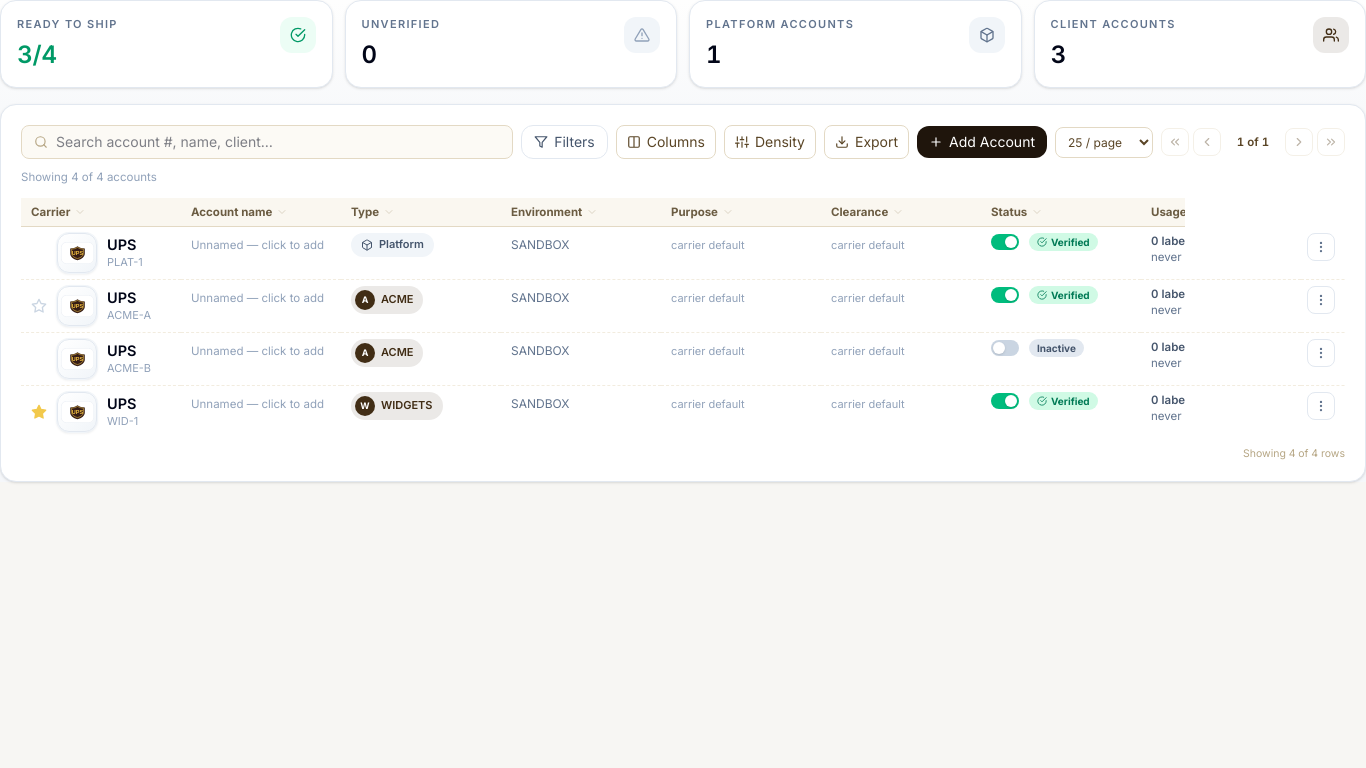
Test case: CarrierConnections · client-attach · positive › selecting a client in the filter narrows visible accounts to that client
Check: the text "Showing 4 of 4 accounts" is shown, box [21,170,157,184]
Click the button "Filters" at (564, 142), box [521,125,608,159]
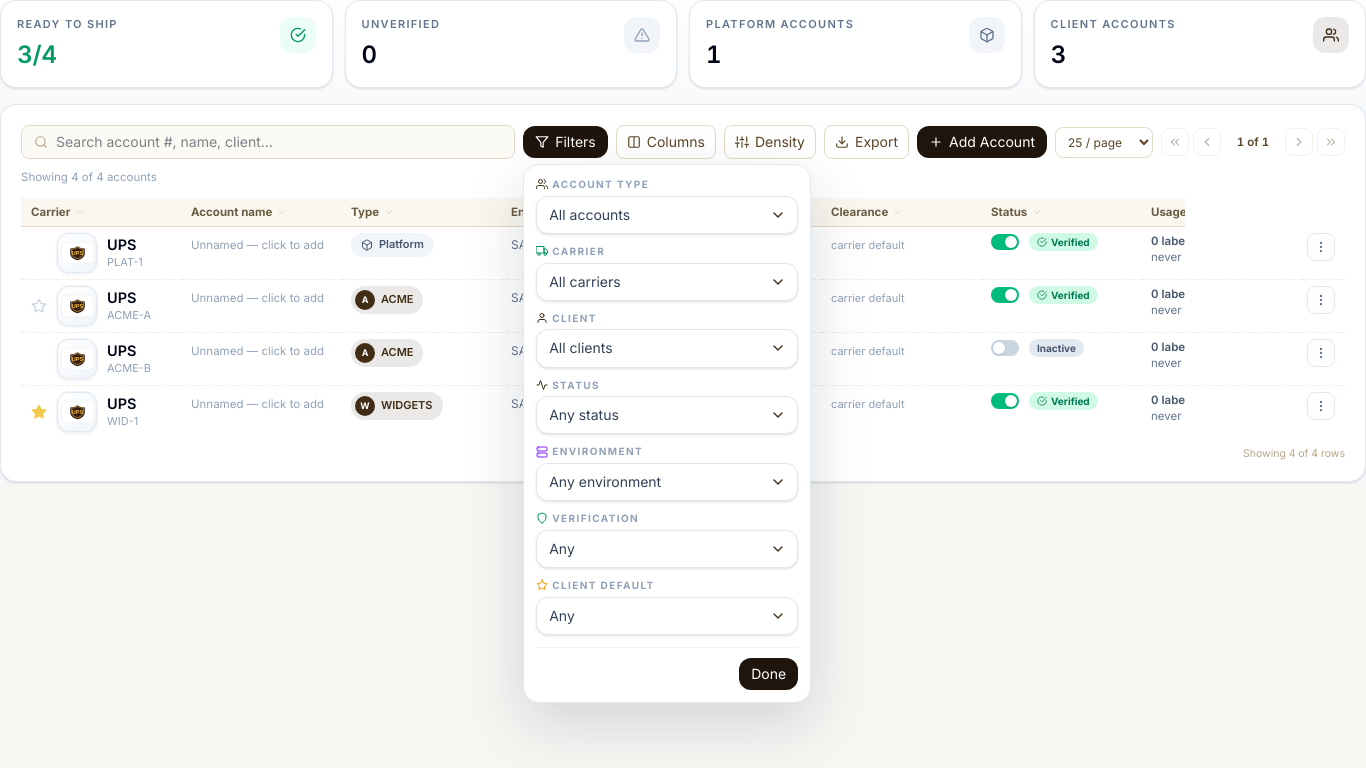
Select "ACME — Acme Corp" in the dropdown named "Filter by client" at (667, 348), box [536,329,798,368]
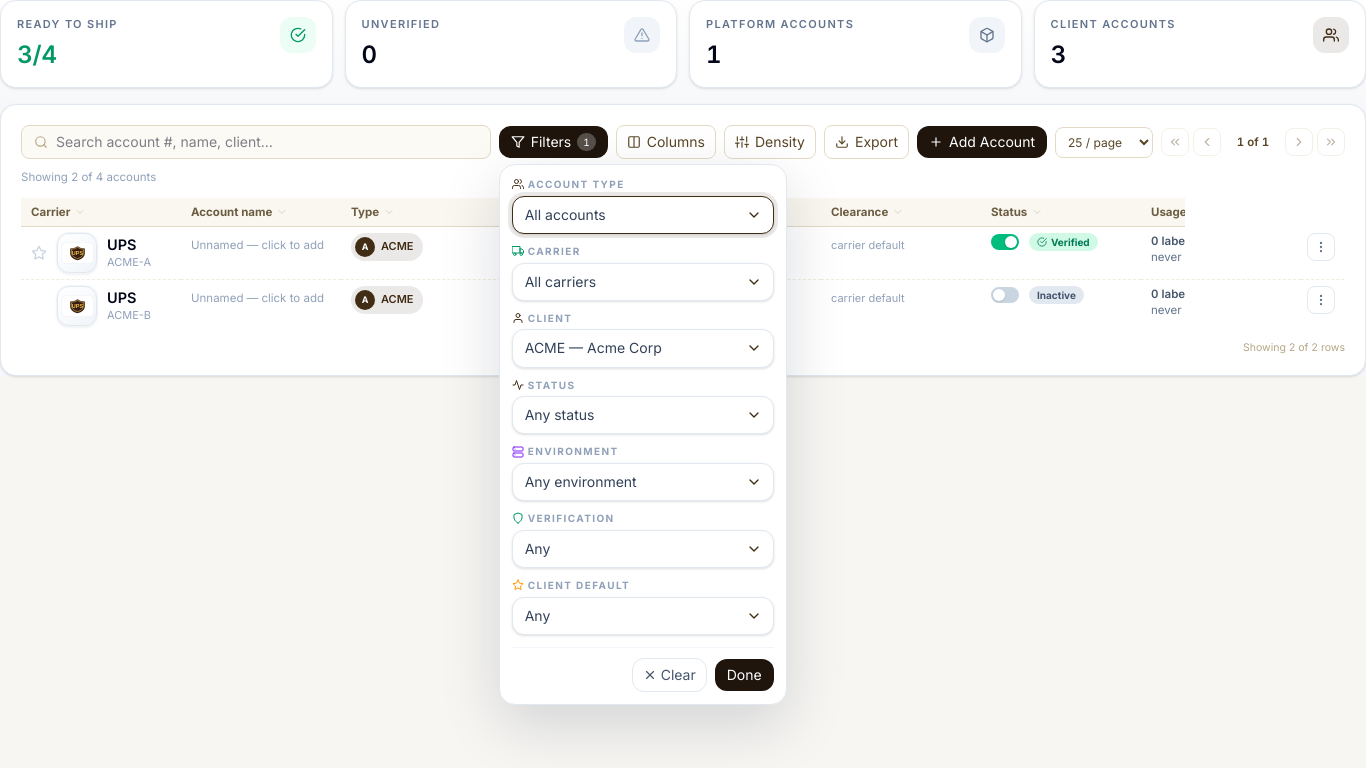
Check: the text "Showing 2 of 4 accounts" is shown, box [21,170,156,184]
